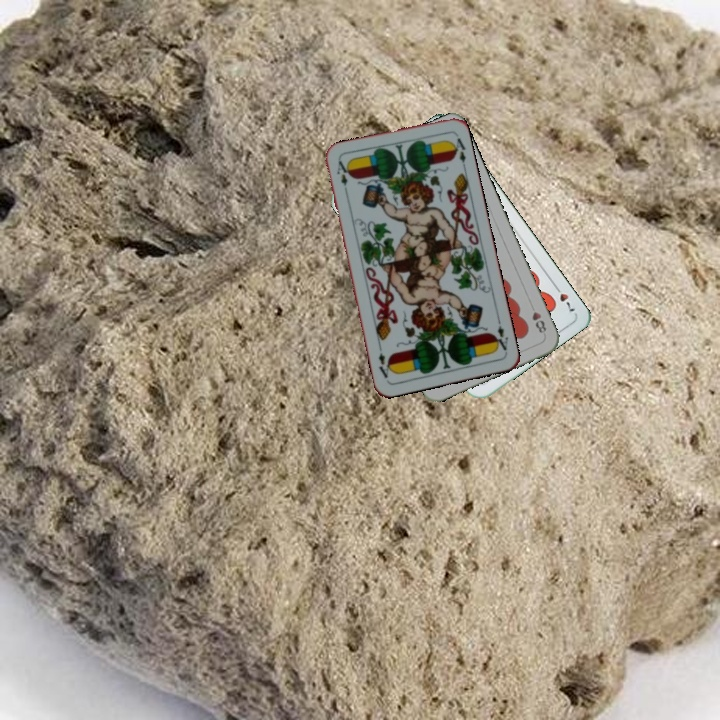EA: (490, 314, 511, 355), (333, 157, 350, 197)
H7: (549, 280, 578, 314)
H8: (526, 299, 549, 336)
